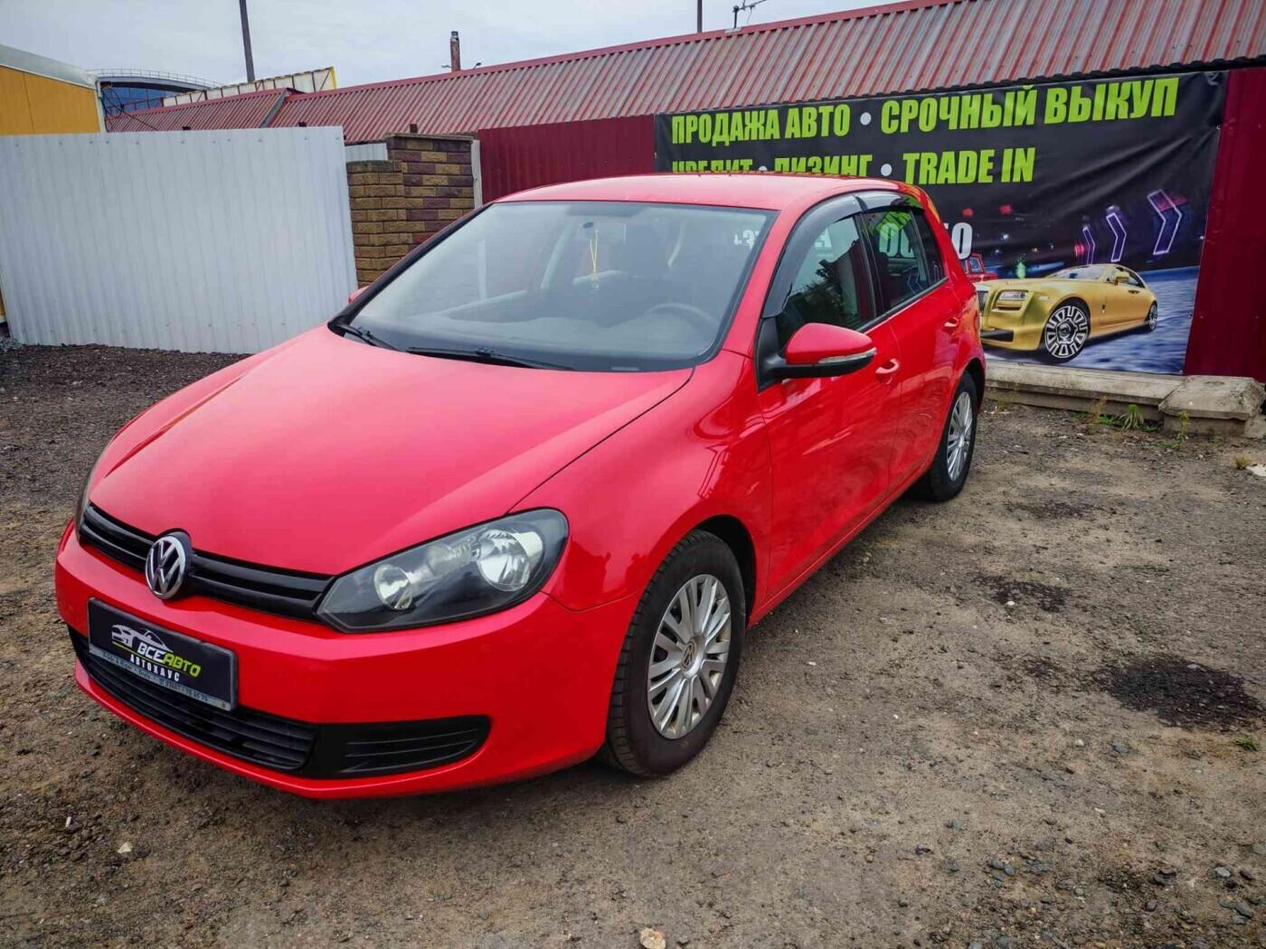Golf_2008-2013: (47, 165, 1001, 792)
